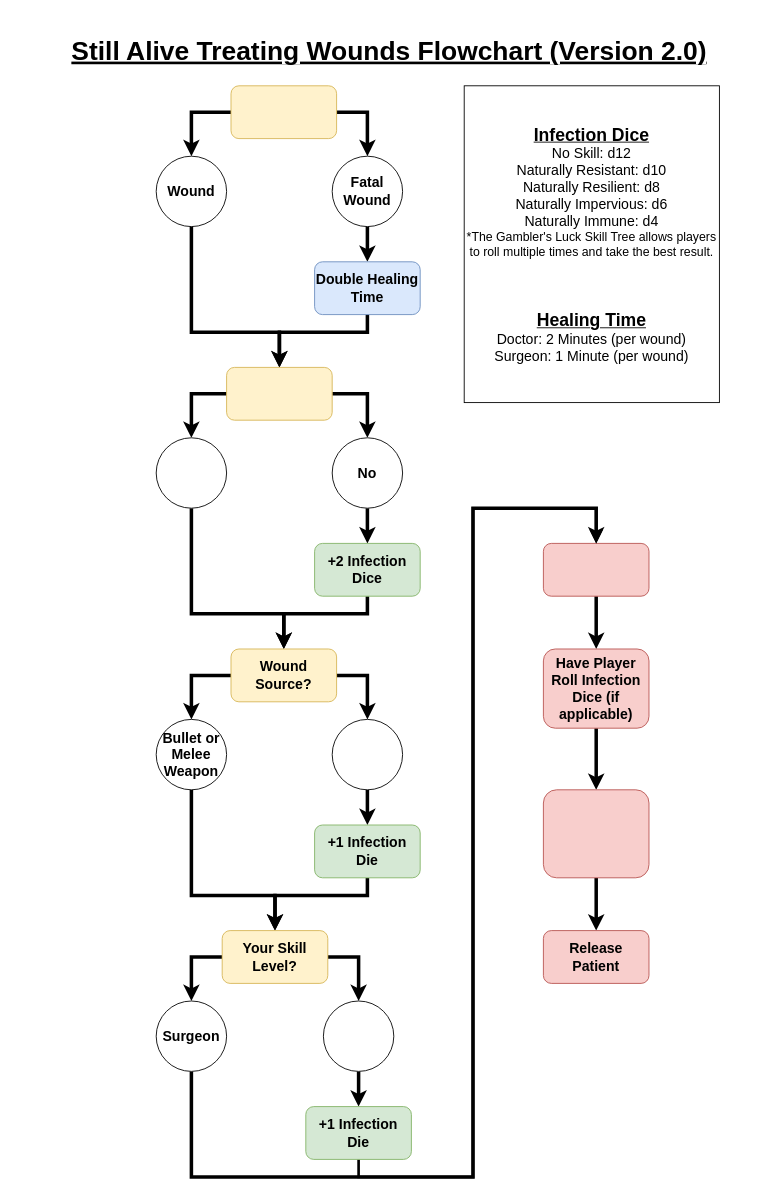
Image size: 778x1200. Some labels were removed from this diagram. Each missing label, with the centre of its shape:
"Doctor" belongs at [358,1035].
"Is the wound wrapped?" belongs at [279,393].
"Record Character Treatment and Infection Change" belongs at [596,833].
"Roleplay Healing Wounds" belongs at [596,569].
"Wound Type?" belongs at [283,112].
"Yes" belongs at [191,472].
"Zombie" belongs at [367,754].
